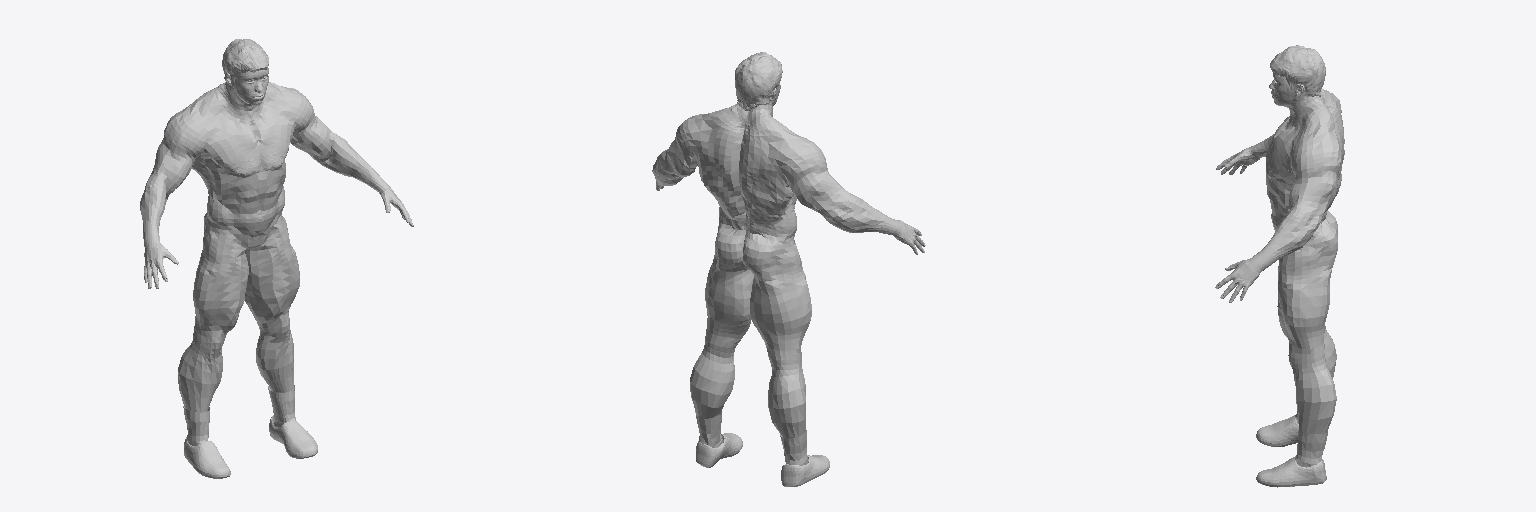
The model's file is bigBoy.obj.
3 renders of one model, left to right at view 1: azimuth 30°, elevation 25°; view 2: azimuth 150°, elevation 25°; view 3: azimuth 270°, elevation 25°, orthographic.
Parts seen in each view (by area): view 1: base.obj, shoes05.obj, short02.obj; view 2: base.obj, shoes05.obj, short02.obj; view 3: base.obj, shoes05.obj, short02.obj.
Part boxes in pixels (x1,y1,x2,y2): base.obj: (140, 70, 413, 412); shoes05.obj: (183, 385, 317, 478); short02.obj: (222, 39, 268, 87); base.obj: (652, 84, 925, 437); shoes05.obj: (695, 411, 829, 486); short02.obj: (735, 52, 782, 110); base.obj: (1215, 75, 1344, 433); shoes05.obj: (1256, 411, 1327, 487); short02.obj: (1270, 45, 1325, 98).
Bounding box in the file's own units: 12.13 × 18.25 × 5.14.